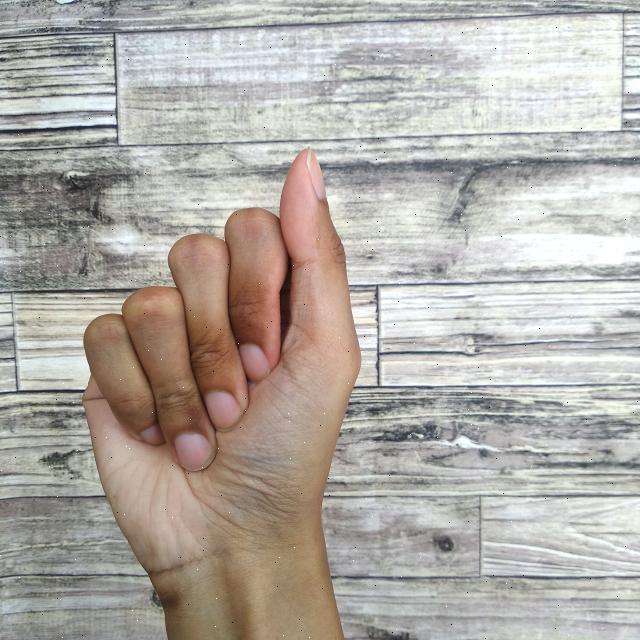A: (77, 132, 375, 640), (77, 135, 371, 640)
